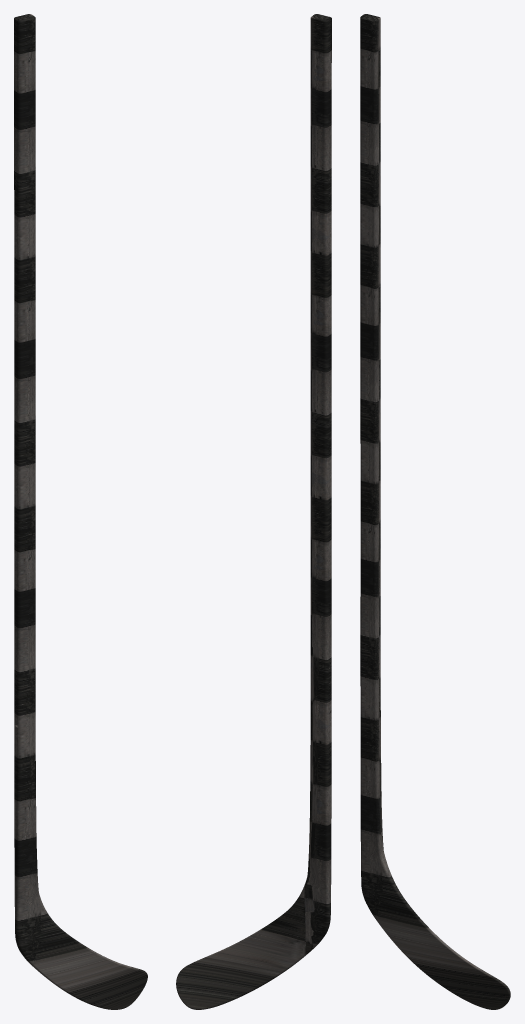
The model's file is P29-1-4-ST-LIE8_0.glb.
3 renders of one model, left to right at view 1: azimuth 30°, elevation 25°; view 2: azimuth 150°, elevation 25°; view 3: azimuth 330°, elevation 25°, orthographic. The views are drawn at different scales.
Parts seen in each view (by area): view 1: geometry_0; view 2: geometry_0; view 3: geometry_0.
Part boxes in pixels (x1,y1,x2,y2): geometry_0: [14, 14, 147, 1009]; geometry_0: [176, 14, 331, 1009]; geometry_0: [360, 14, 510, 1009].
Size of the model in its own units: 242 by 1650 by 54.72.
Materials: 1 (1 with a texture image).
